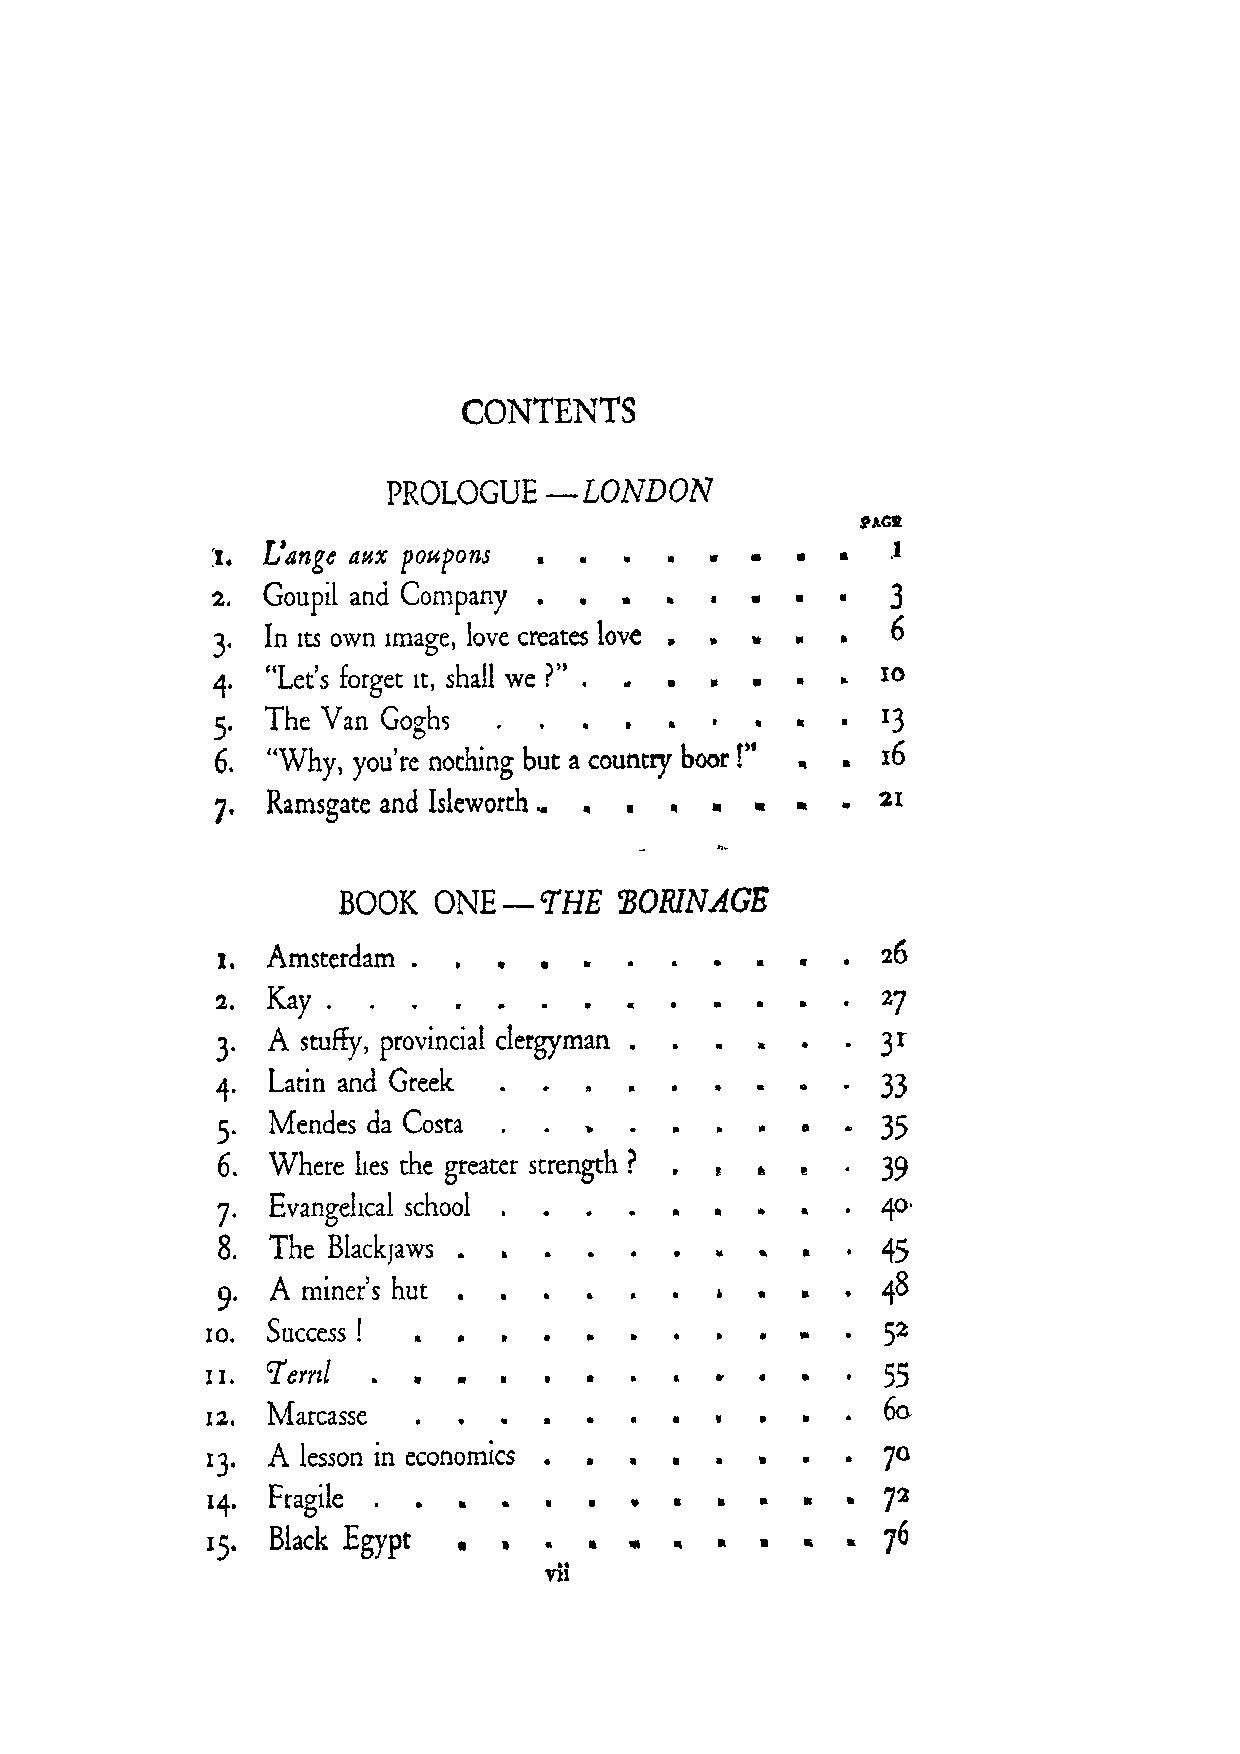TOC_chapter: (209, 743, 760, 774), (211, 621, 644, 658), (331, 884, 794, 918), (213, 1147, 641, 1178), (213, 1032, 619, 1062), (207, 580, 509, 616), (205, 538, 499, 574), (209, 667, 558, 697), (211, 789, 542, 820), (378, 476, 710, 506), (204, 1443, 514, 1474), (215, 1188, 476, 1220), (201, 1526, 413, 1562), (215, 1108, 468, 1138), (213, 1274, 437, 1306), (209, 705, 448, 734), (212, 1070, 451, 1096), (215, 1235, 432, 1263), (211, 943, 399, 970), (204, 1402, 374, 1431), (199, 1319, 366, 1347), (207, 1487, 348, 1515), (199, 1359, 331, 1389), (212, 988, 319, 1019)
TOC_pagenumber: (874, 1067, 910, 1100), (880, 1357, 911, 1392), (876, 937, 910, 966), (880, 1149, 911, 1180), (884, 1522, 914, 1554), (879, 1233, 909, 1264), (879, 1441, 911, 1469), (880, 1270, 907, 1303), (880, 1115, 915, 1139), (880, 1483, 911, 1510), (879, 1321, 913, 1345), (882, 1194, 911, 1219), (879, 702, 903, 730), (880, 985, 905, 1013), (880, 1394, 909, 1418), (878, 789, 909, 809), (880, 741, 906, 765), (878, 1029, 903, 1053), (884, 619, 909, 643), (888, 578, 906, 609), (879, 662, 902, 684), (883, 531, 903, 550)
chapter: (458, 392, 637, 425)
content_pagenumber: (541, 1555, 574, 1582)
